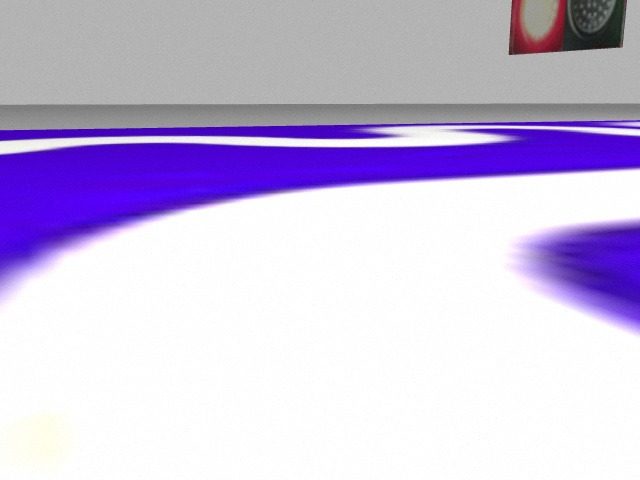red: (512, 1, 565, 55)
